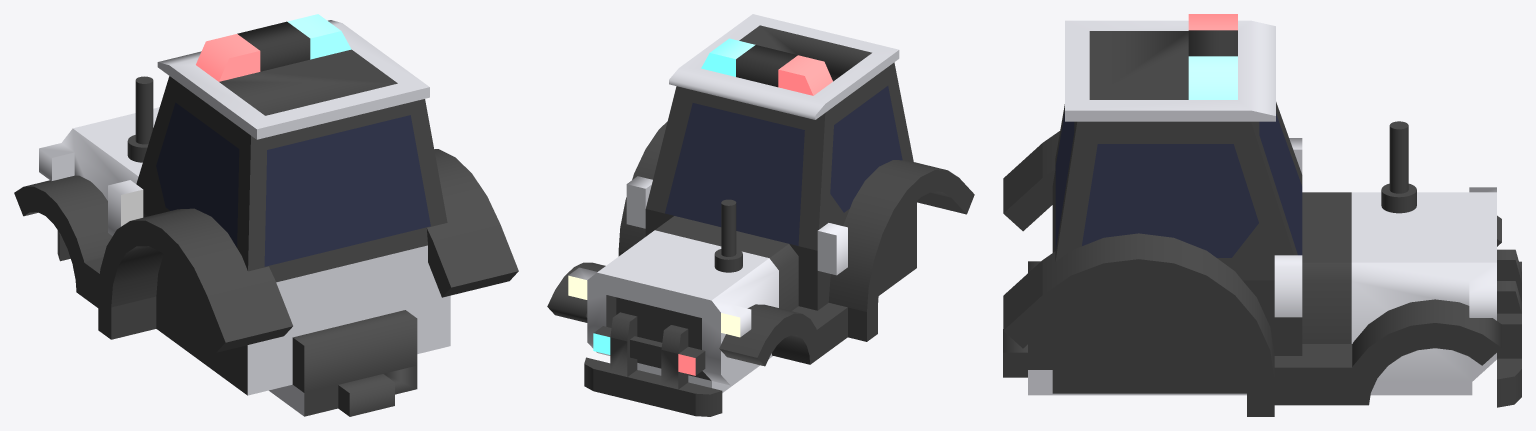
The model's file is SM_Tractor_Police_Body.fbx.
The picture shows the model from 3 angles, left to right: view 1: azimuth 30°, elevation 25°; view 2: azimuth 150°, elevation 25°; view 3: azimuth 270°, elevation 25°; orthographic projection. The views are drawn at different scales.
Parts seen in each view (by area): view 1: SM_Tractor_Police_Body; view 2: SM_Tractor_Police_Body; view 3: SM_Tractor_Police_Body.
Part boxes in pixels (left/top/right/bottom): SM_Tractor_Police_Body: left=14, top=14, right=518, bottom=416; SM_Tractor_Police_Body: left=547, top=14, right=974, bottom=416; SM_Tractor_Police_Body: left=1003, top=14, right=1521, bottom=416.
Size of the model in its own units: 1.46 by 1.44 by 2.1.
